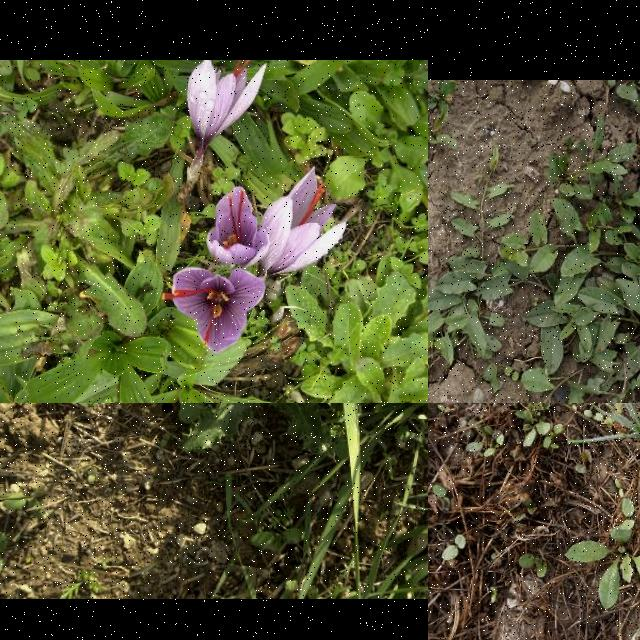flower: (258, 167, 348, 279), (161, 268, 267, 354), (187, 60, 267, 146), (207, 188, 271, 268)
